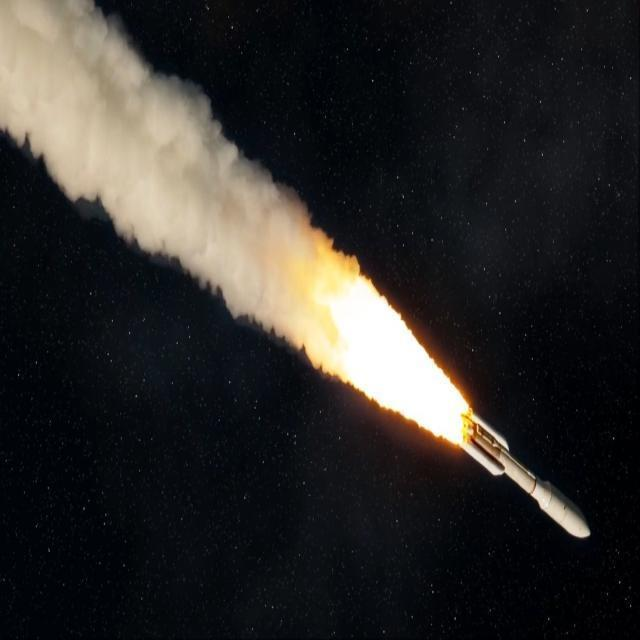missile: (462, 413, 594, 542)
